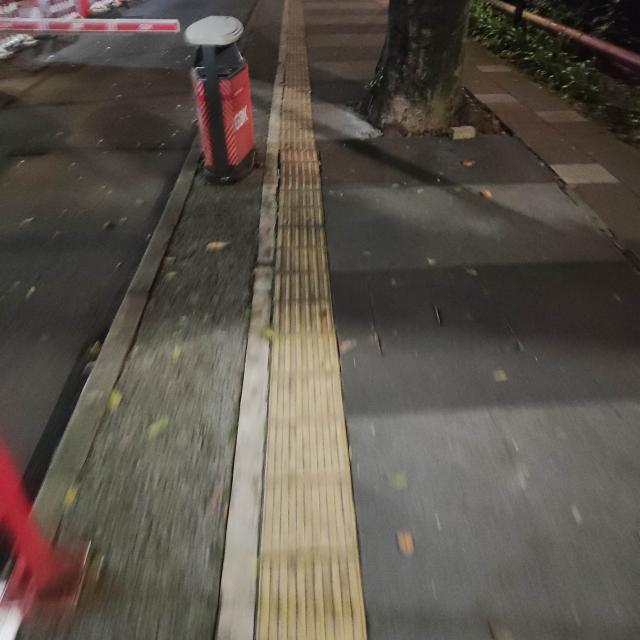lurus: (254, 89, 366, 640)
